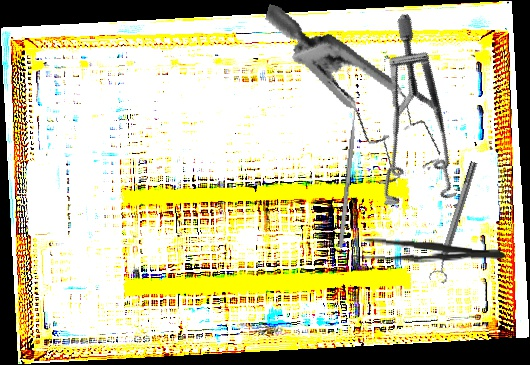Dressing Forceps: (350, 236, 507, 267)
Fixation Ring: (426, 159, 485, 285)
Pusher: (338, 97, 359, 248)
Speculum: (231, 4, 467, 197), (318, 11, 520, 234)
